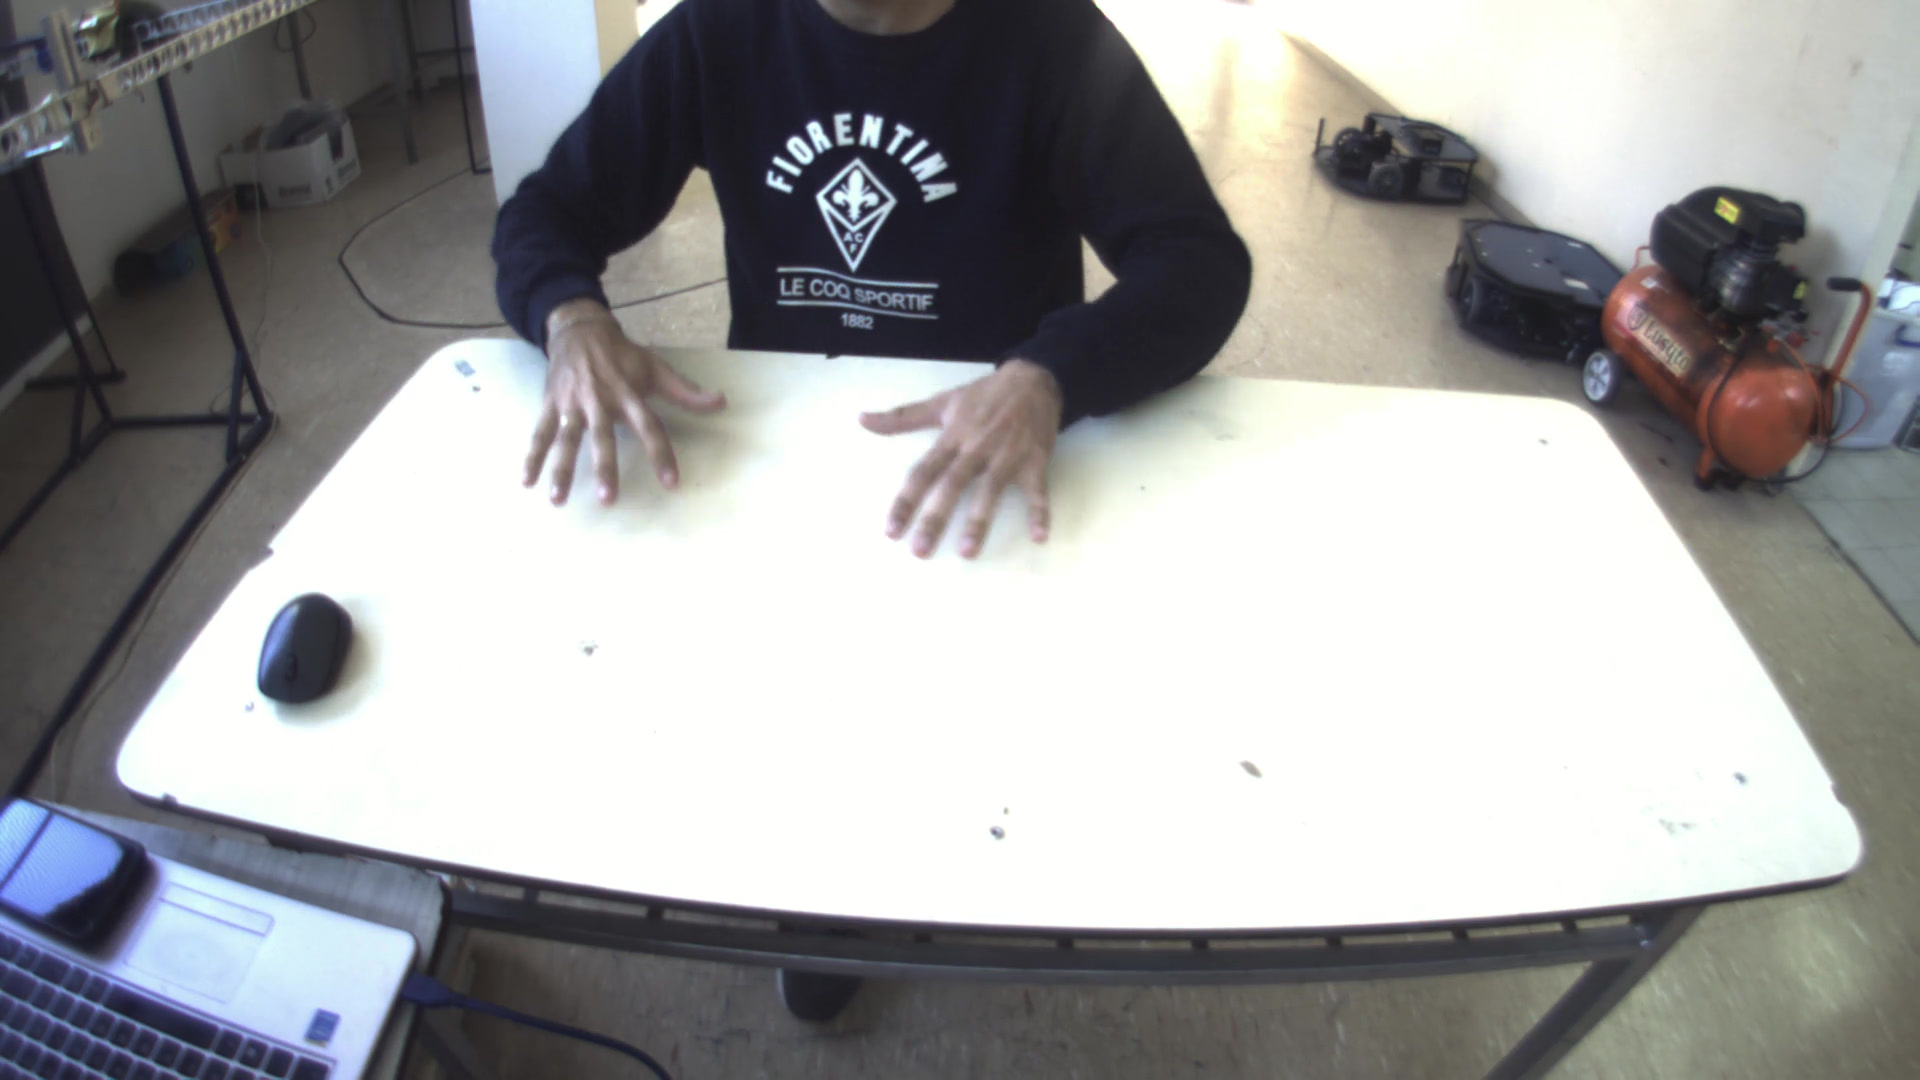hand: (843, 347, 1073, 568), (502, 295, 731, 506)
